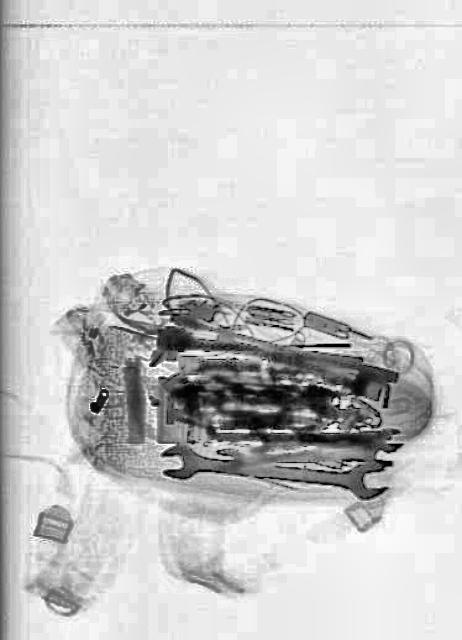Wrench: (158, 440, 388, 498), (252, 426, 402, 452)
